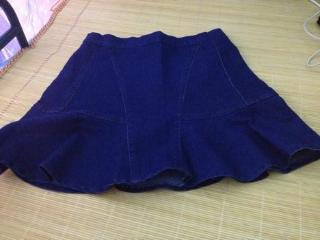skirt: (0, 28, 319, 194)
